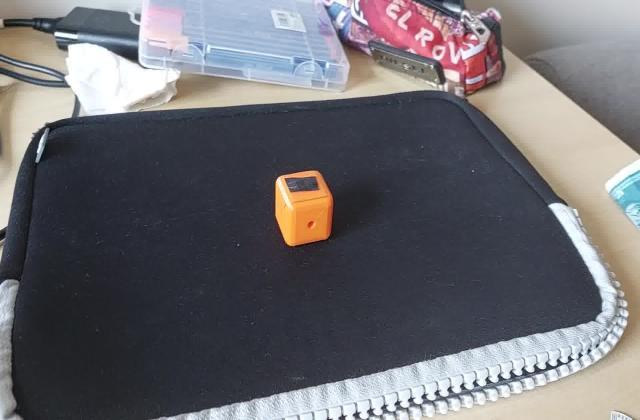black: (282, 174, 322, 196)
cube: (271, 169, 333, 248)
